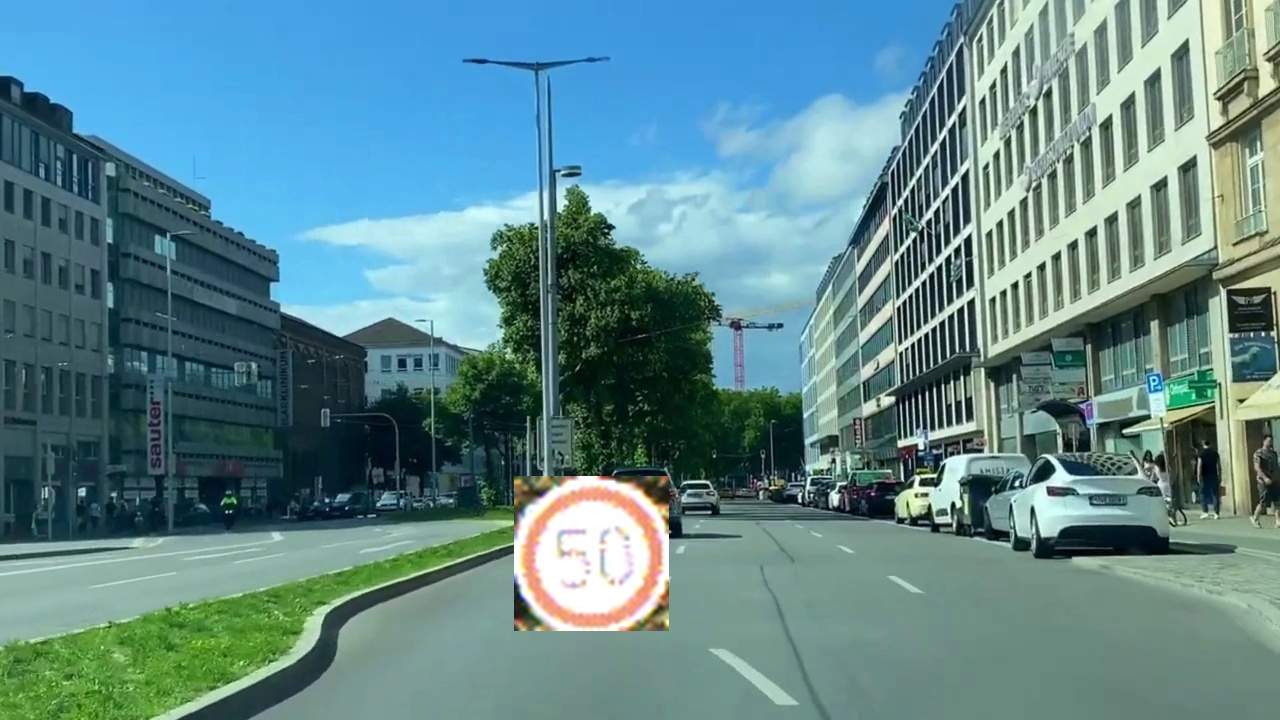Speed 50: (514, 476, 669, 631)
